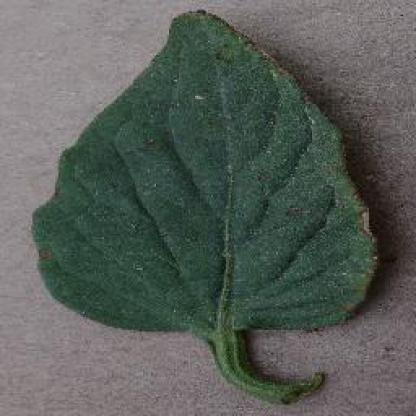bad leaf: (17, 3, 404, 414)
